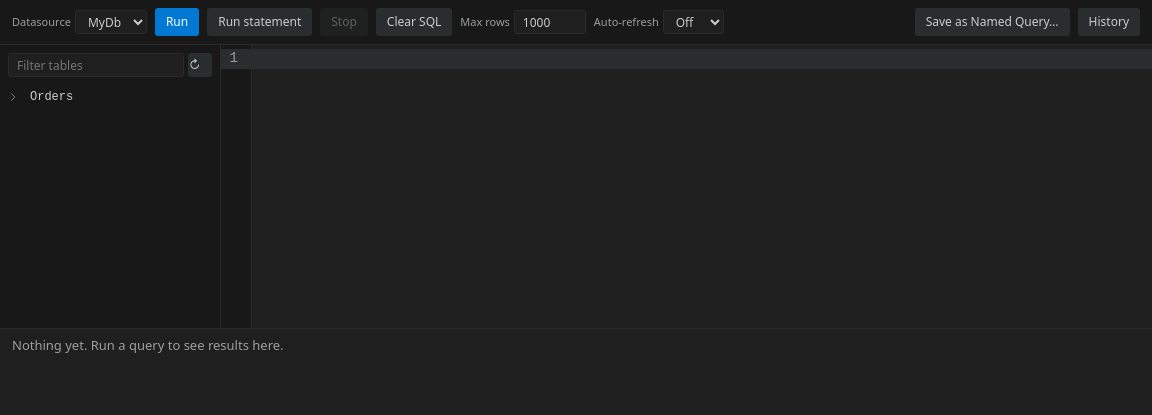
Test: QueryBrowser › renders an affected-only result as a one-line summary
Double-click the button "Orders" at [119, 97], box [22,85,216,109]
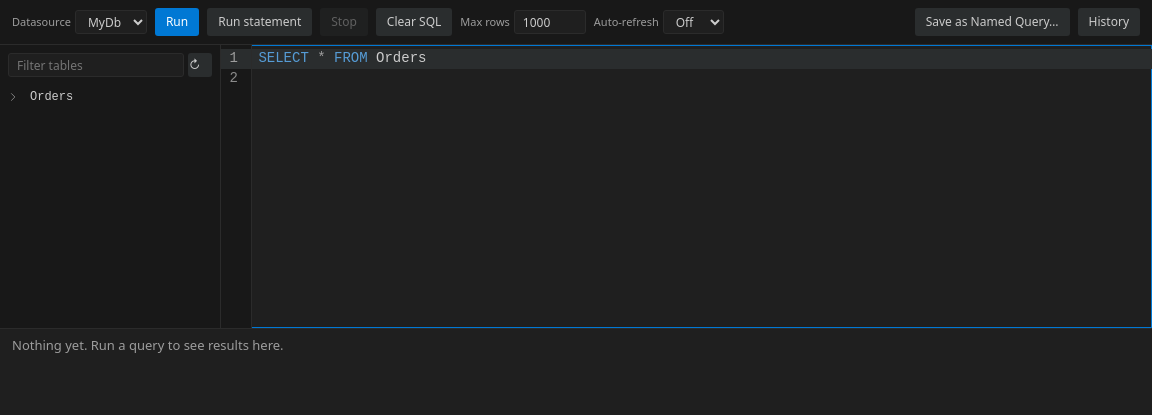
Click the button "Run" at [177, 22], box [155,8,199,36]
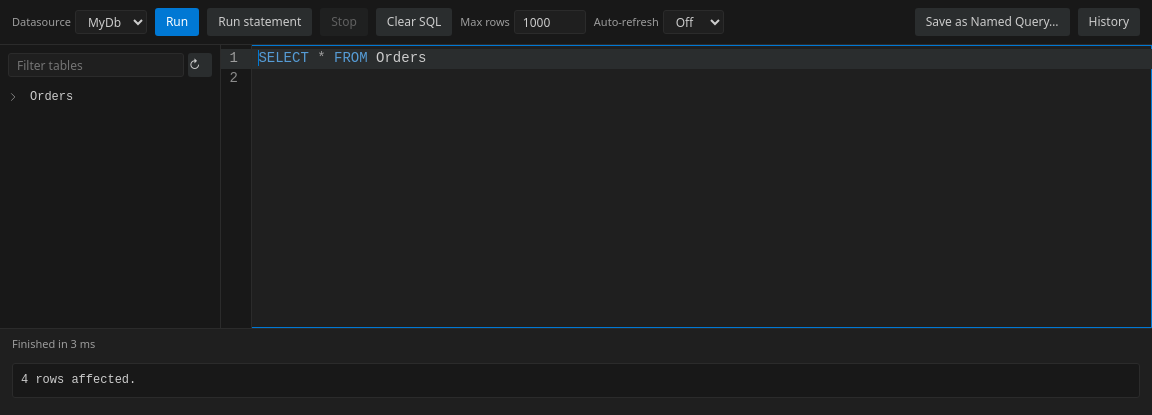
expect the text "4 rows affected." is shown: met, box [12,363,1140,398]
